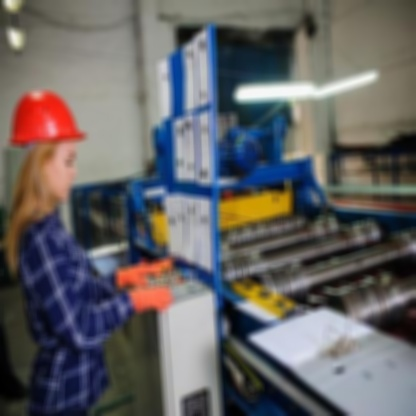red: (7, 87, 92, 164)
